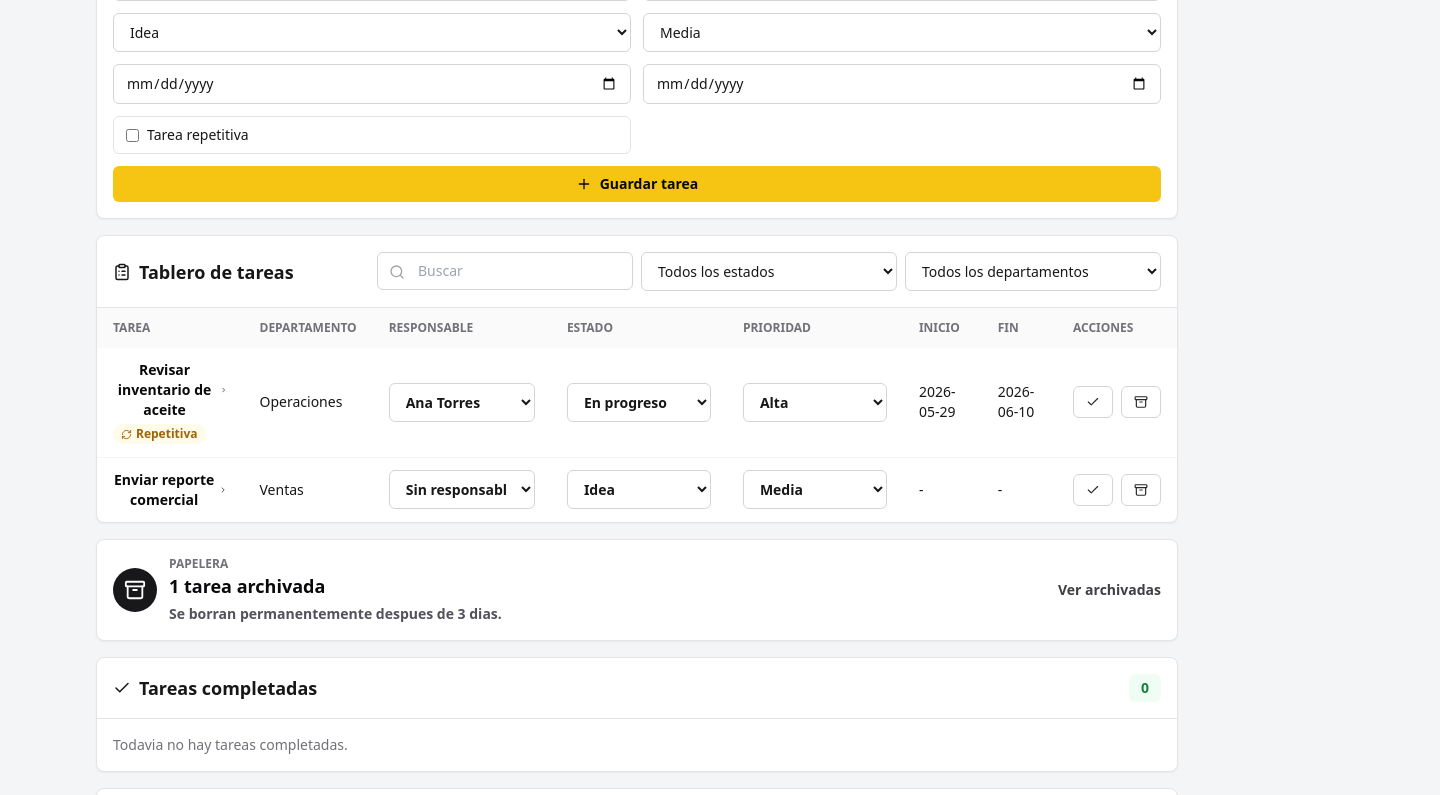
it: Nomada Tasks page › labels task title and empty description in the detail modal
(page scrolled)
Click the button "Revisar inventario de aceite" at {"x": 170, "y": 390}, box [113, 360, 228, 420]
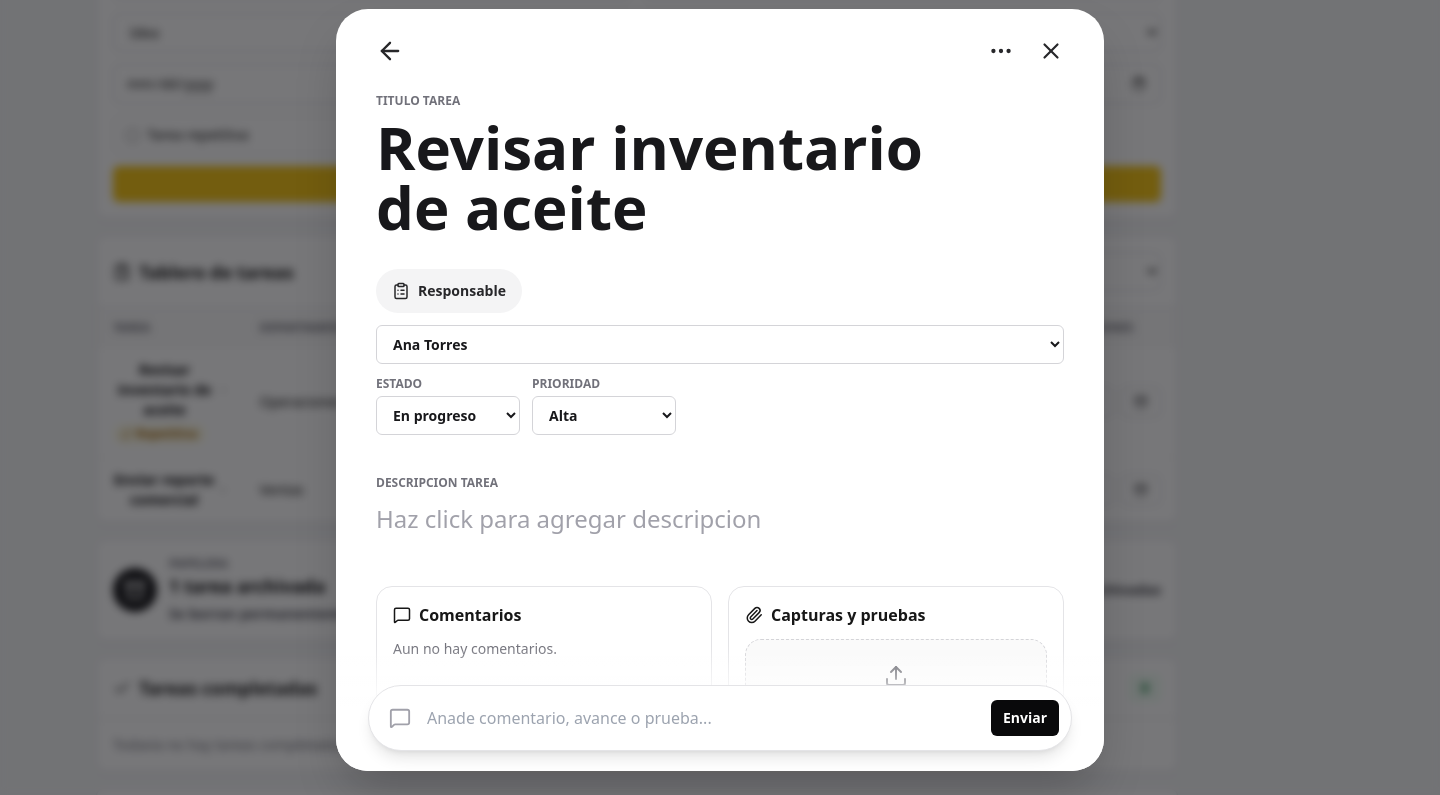
Expected: the text "Titulo tarea" is shown, [376, 93, 460, 109]
Expected: the text "Descripcion tarea" is shown, [376, 474, 498, 491]
Expected: the button "Haz click para agregar descripcion" is shown, [376, 499, 761, 538]
